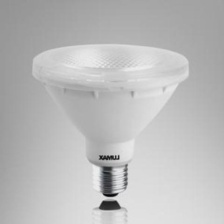light_bulb: (27, 38, 194, 209)
